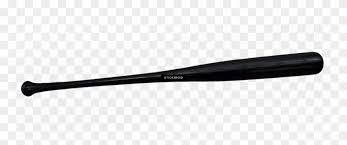baseball bat: (19, 51, 324, 97)
